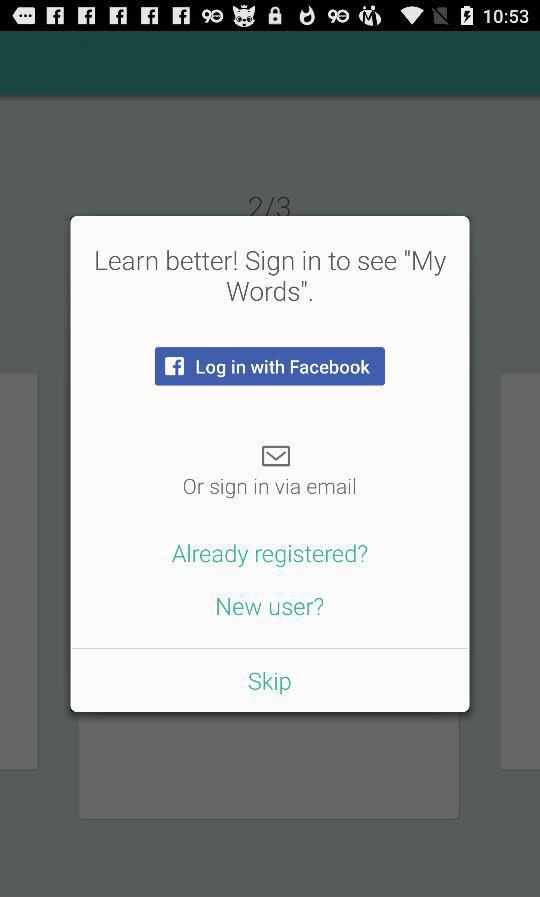Icon: (262, 445, 291, 468)
Modal: (70, 216, 470, 713)
Text: (95, 250, 447, 303), (172, 544, 368, 568), (183, 478, 356, 500), (216, 597, 325, 617), (248, 671, 293, 695)
TextButton: (155, 347, 386, 387)
UpperTaskBar: (1, 1, 540, 33)
